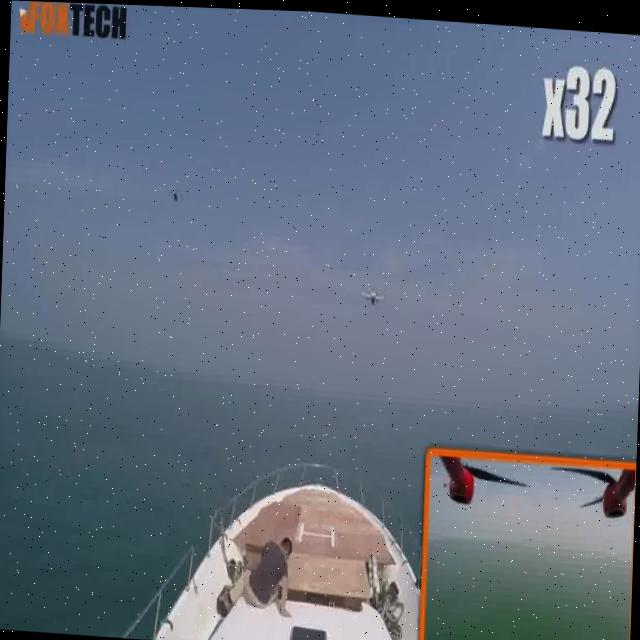drone: (355, 276, 390, 312), (164, 181, 192, 212)
